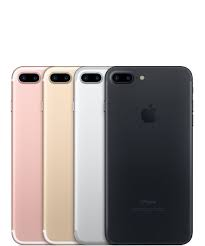iphone: (101, 62, 196, 245)
